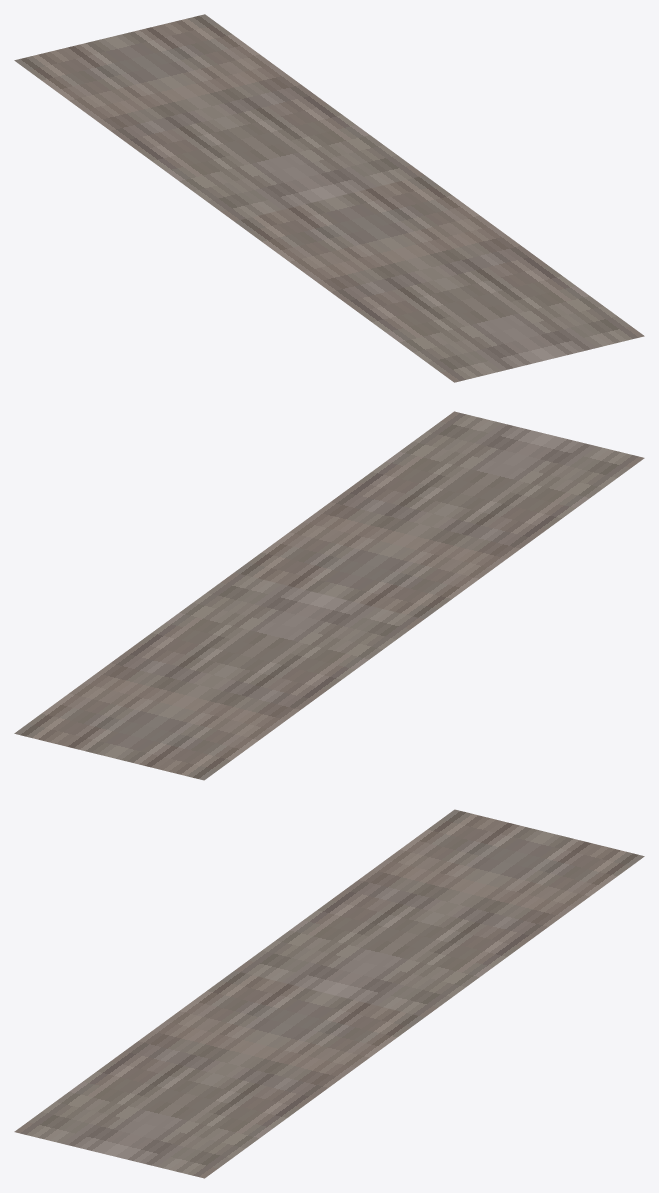
File: pir_m_bld_frt_innerWall_200_footprint.fbx
The picture shows the model from 3 angles, top to bottom: view 1: azimuth 30°, elevation 25°; view 2: azimuth 150°, elevation 25°; view 3: azimuth 330°, elevation 25°; orthographic projection.
Parts seen in each view (by area): view 1: footprint; view 2: footprint; view 3: footprint.
Part boxes in pixels (left/top/right/bottom): footprint: left=14, top=14, right=644, bottom=382; footprint: left=14, top=411, right=644, bottom=780; footprint: left=14, top=809, right=644, bottom=1178.
Size of the model in its own units: 5000 by 0.00326 by 20011.
1 material, 1 textured.
